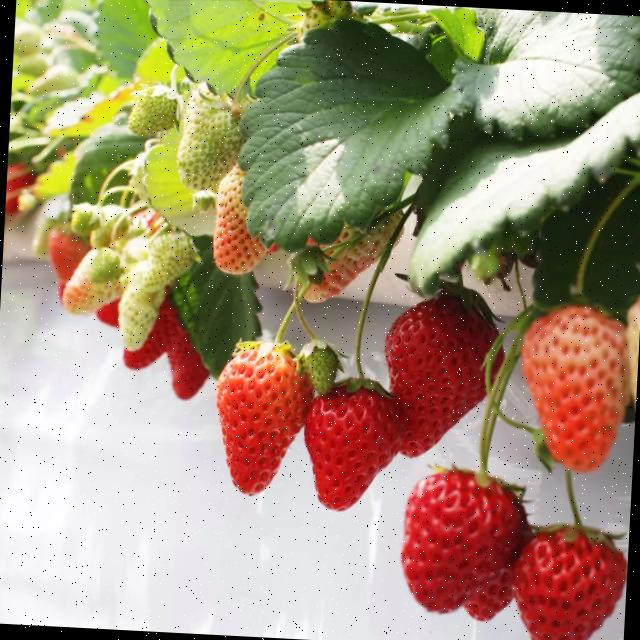Ripe Strawberry: (376, 283, 510, 464), (402, 464, 519, 624), (208, 334, 310, 504), (301, 364, 404, 516), (509, 520, 627, 640), (164, 289, 222, 406), (119, 287, 178, 375), (5, 163, 40, 221), (98, 288, 134, 330)
